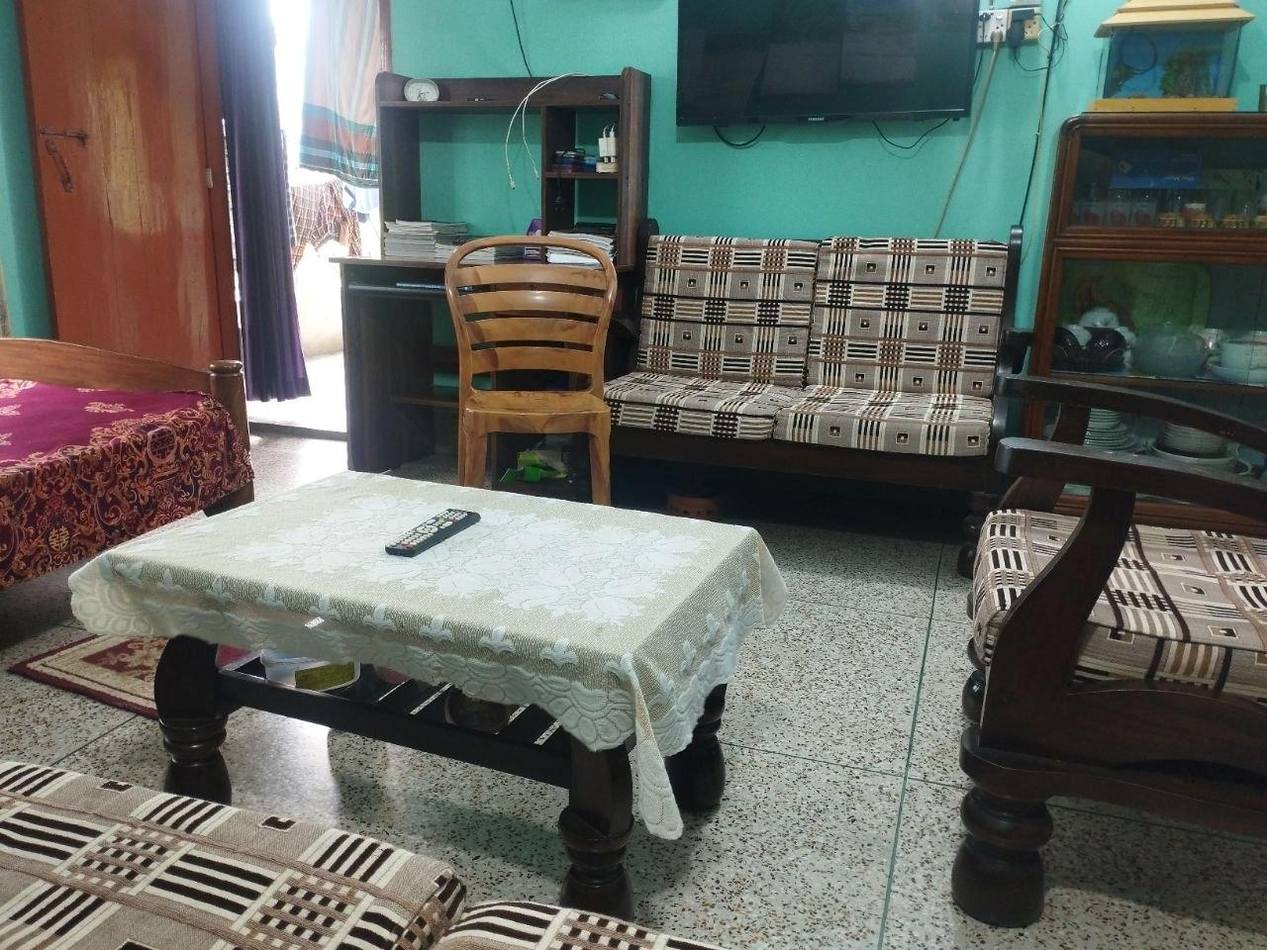Chair: (428, 228, 627, 496)
Door: (16, 0, 248, 379)
Floor Mat: (12, 597, 248, 728)
Glass: (1069, 145, 1267, 236)
Remote: (387, 484, 482, 569)
Table: (87, 462, 815, 924), (349, 56, 638, 502)
Towel: (303, 0, 383, 198)
